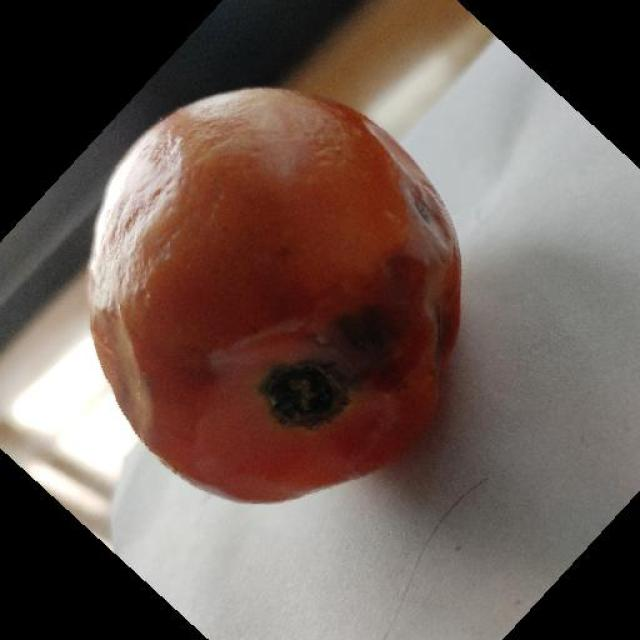Stale_tomato: (122, 165, 509, 512)
